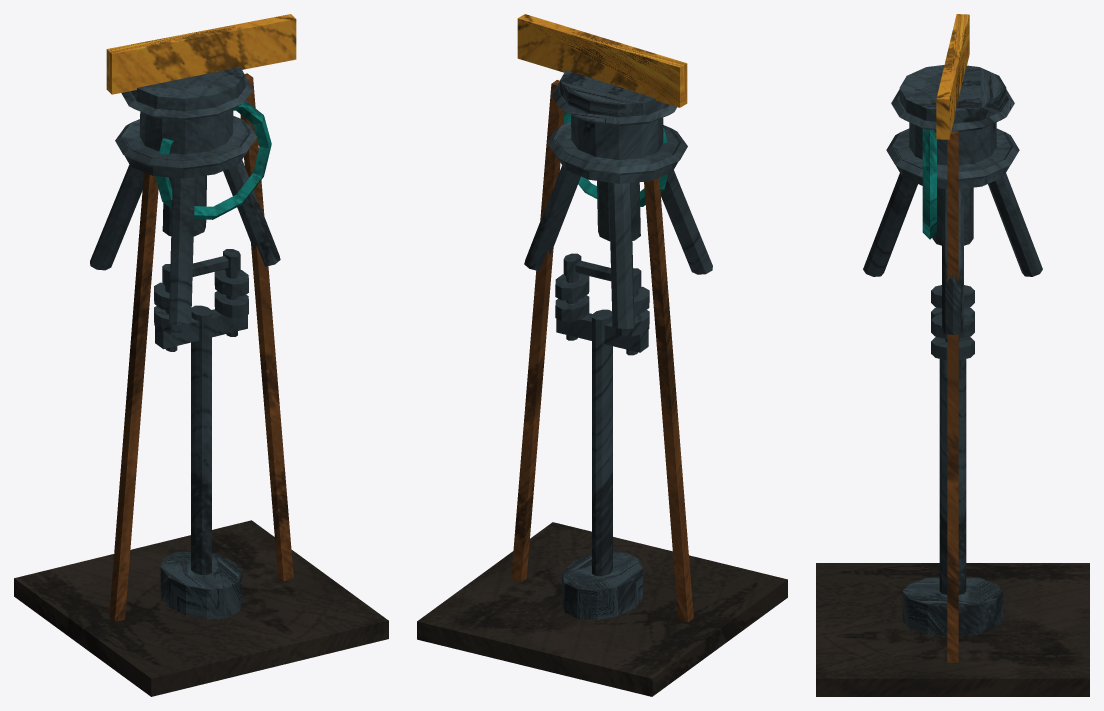
Rendered from blackout-watch-lamp.glb.
The picture shows the model from 3 angles, left to right: view 1: azimuth 30°, elevation 25°; view 2: azimuth 150°, elevation 25°; view 3: azimuth 270°, elevation 25°; orthographic projection.
Parts seen in each view (by area): view 1: blackout-watch-lamp; view 2: blackout-watch-lamp; view 3: blackout-watch-lamp.
Part boxes in pixels (x1,y1,x2,y2): blackout-watch-lamp: [14, 14, 388, 696]; blackout-watch-lamp: [417, 14, 787, 696]; blackout-watch-lamp: [816, 14, 1089, 696].
Size of the model in its own units: 3.8 by 8.92 by 3.8.
Materials: 1 (1 with a texture image).
